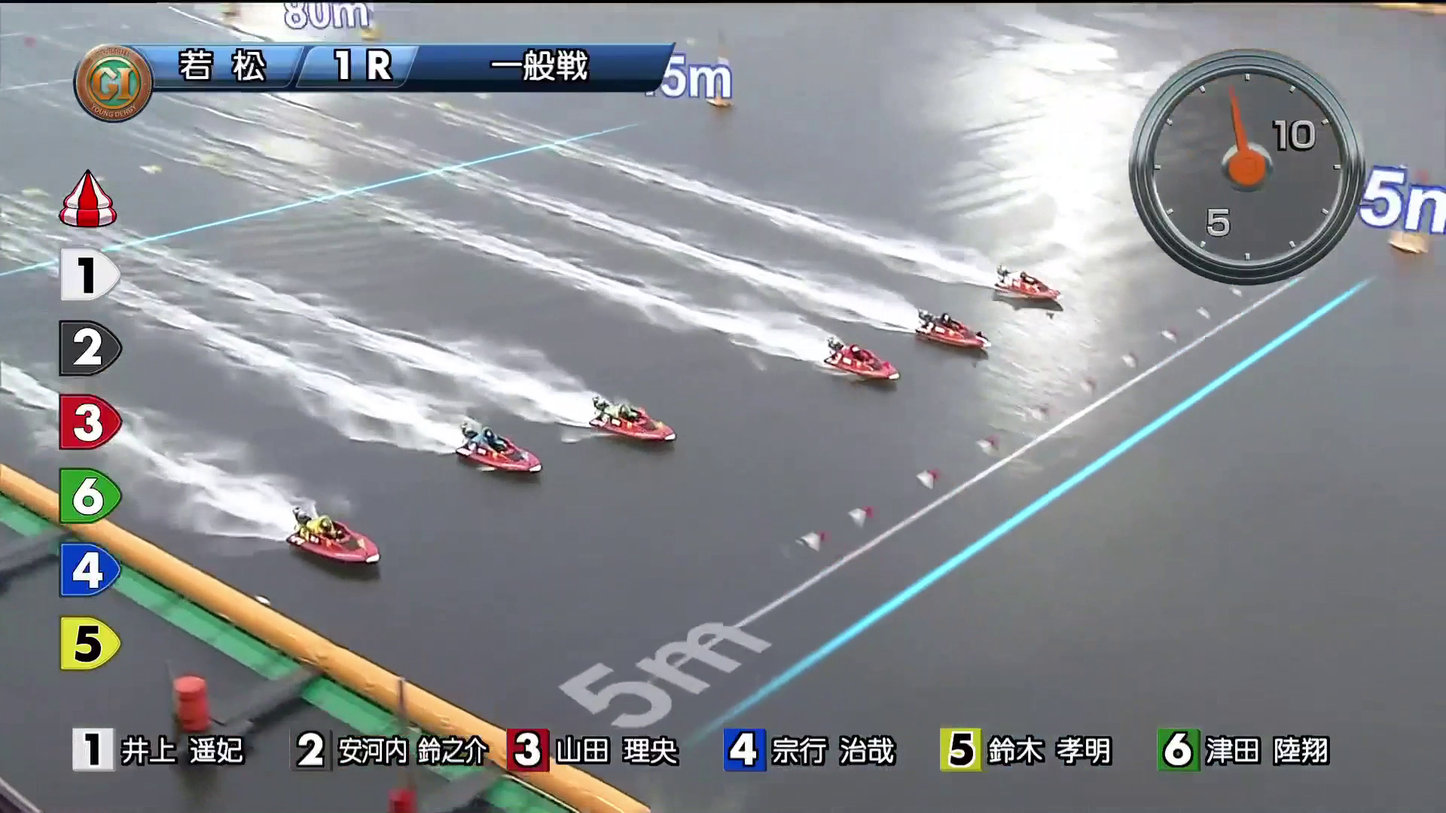１号艇: (968, 254, 1036, 301)
２号艇: (920, 304, 982, 342)
３号艇: (829, 335, 884, 377)
４号艇: (612, 399, 676, 442)
５号艇: (483, 449, 552, 487)
６号艇: (353, 552, 418, 598)
